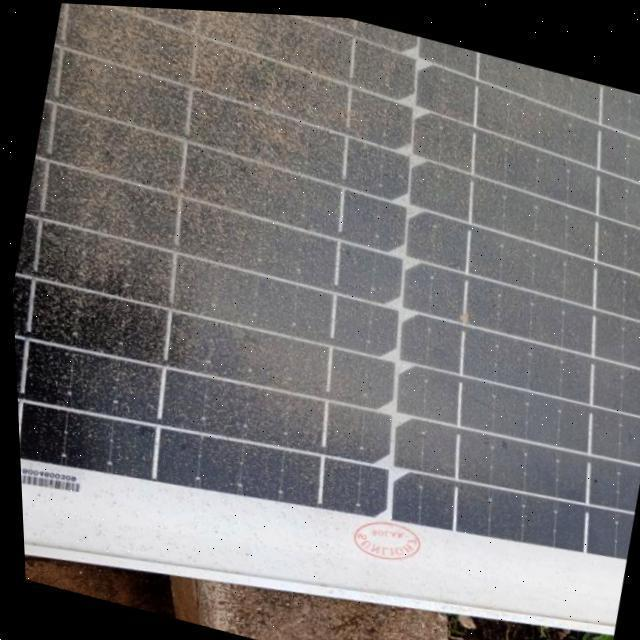Surface Contaminant: (10, 2, 640, 571)
